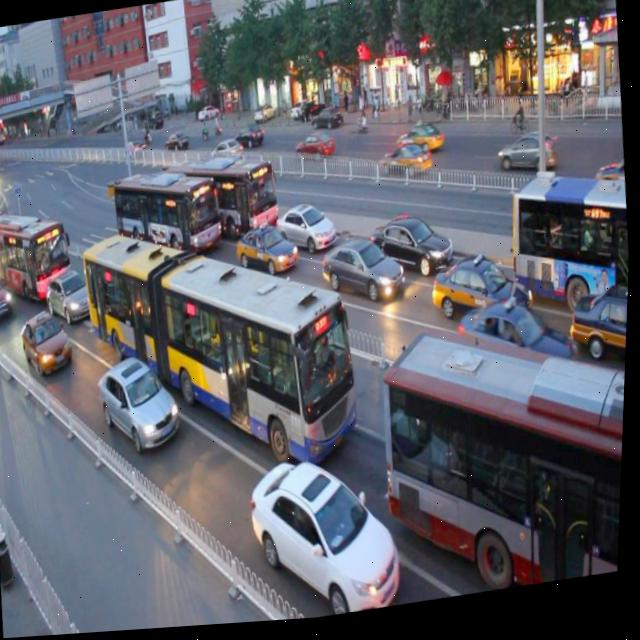car: (246, 442, 409, 626), (456, 297, 588, 421), (431, 248, 539, 351), (97, 352, 186, 461), (319, 230, 408, 315), (372, 208, 459, 286), (565, 284, 631, 372), (234, 216, 302, 285), (273, 195, 339, 263), (21, 305, 79, 381), (45, 267, 102, 329), (0, 267, 17, 328)
van: (74, 197, 372, 500), (374, 313, 630, 612), (505, 165, 634, 318), (165, 141, 284, 252), (110, 160, 226, 265), (0, 199, 76, 301)
